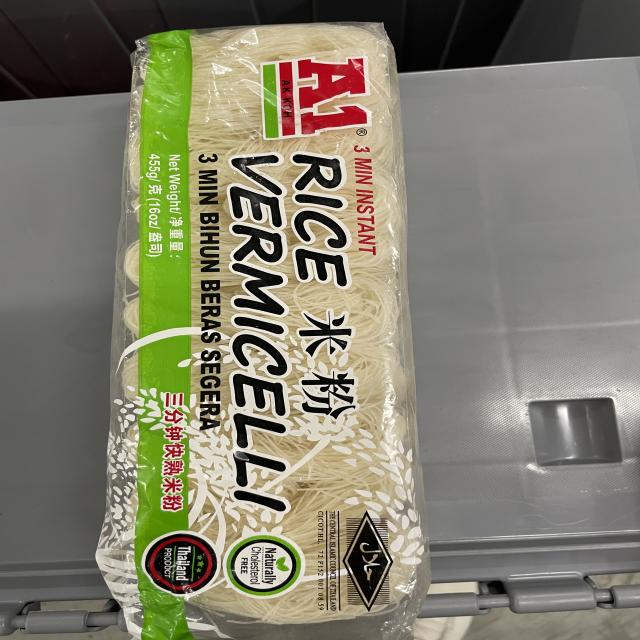object_name: (122, 40, 417, 626)
